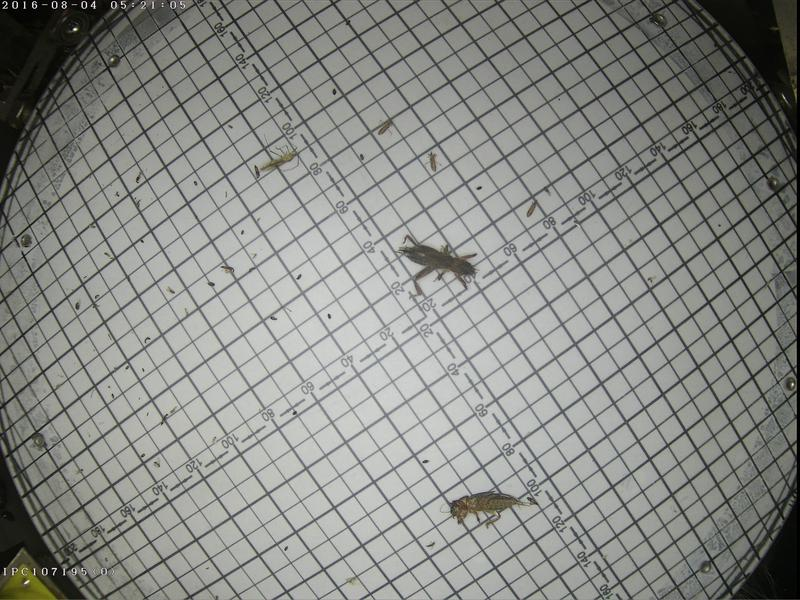Gryllotalpa orientalis: (395, 230, 477, 295), (444, 484, 537, 528)
